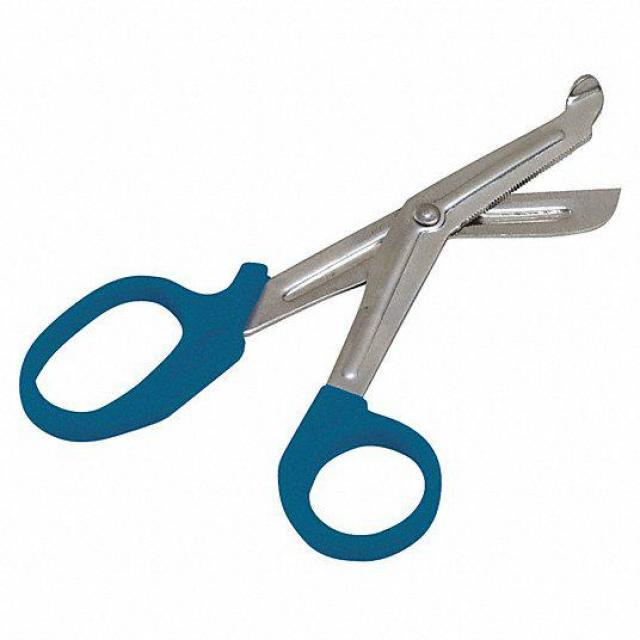scissors: (18, 73, 624, 563)
